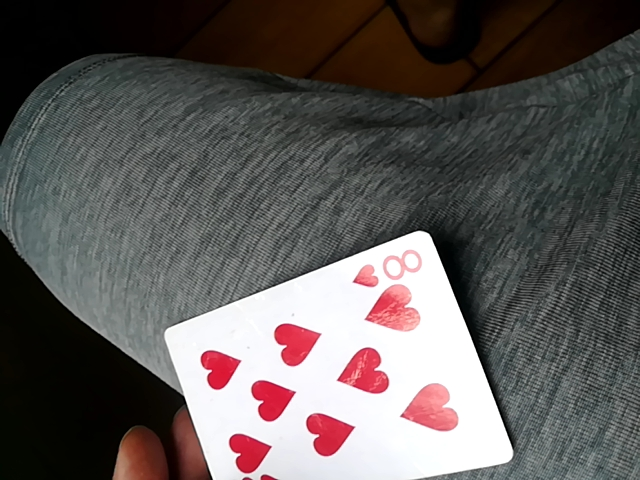hx 8: (165, 230, 514, 479)
